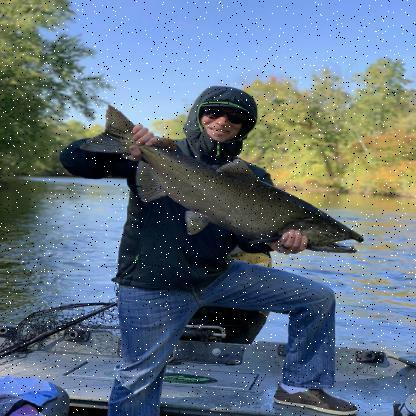fish: (76, 104, 364, 254)
